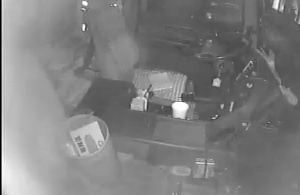cup: (170, 100, 191, 120)
